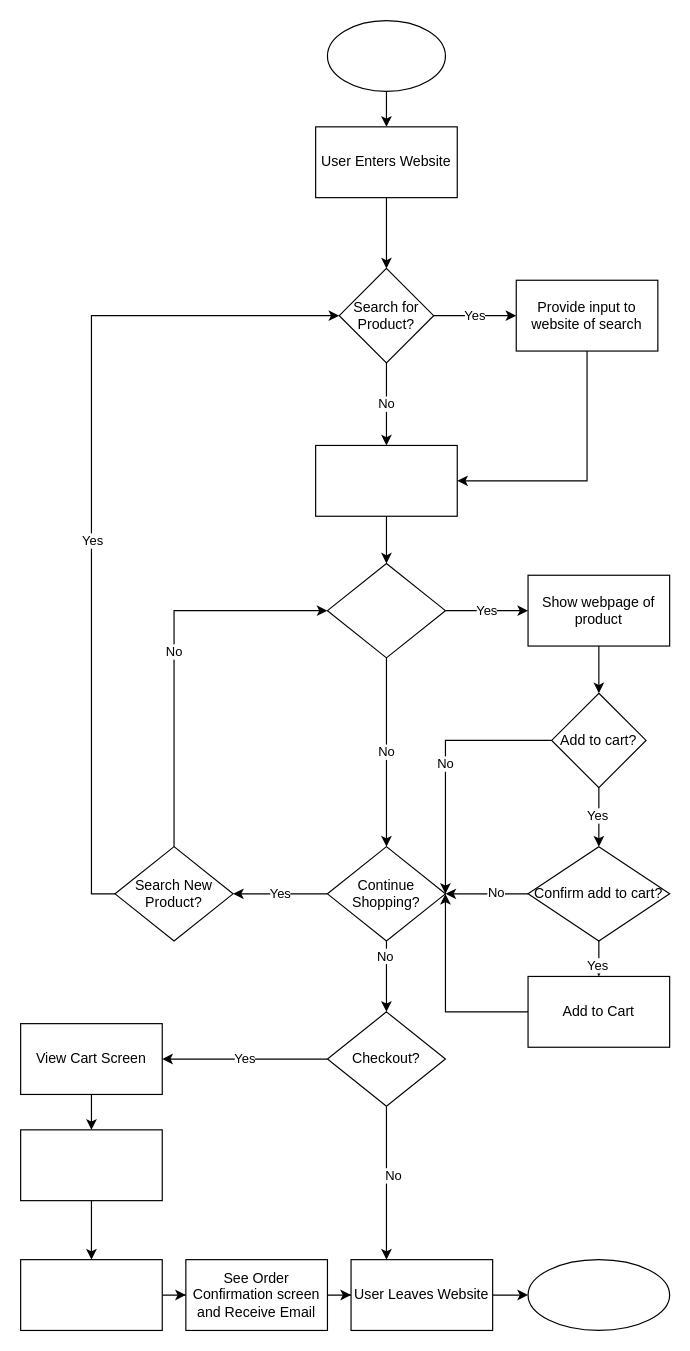
This 690x1351 diagram has some shape labels left out. The centre of each missing label's shape, as x and y in pixels:
"End" goes at [598,1294].
"Start" goes at [385,55].
"User begins looking over products" goes at [385,480].
"User inputs Payment Information and pays" goes at [90,1294].
"View Payment Screen" goes at [90,1165].
"View Specific Product?" goes at [385,610].
